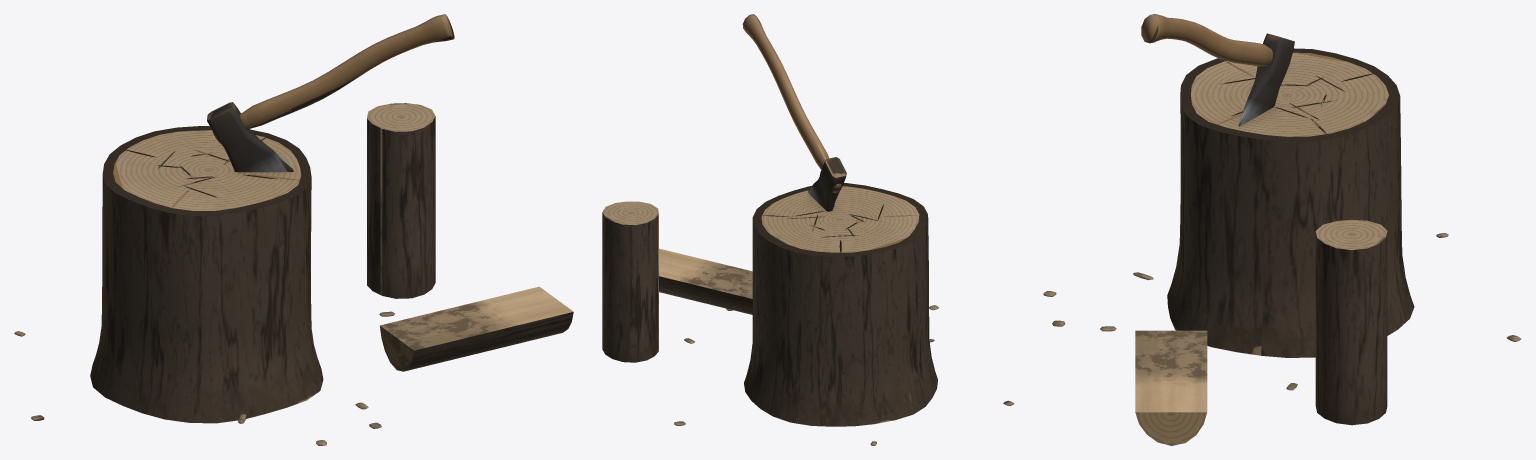
The model's file is chopping.glb.
3 views of the same model, side by side, from view 1: azimuth 30°, elevation 25°; view 2: azimuth 150°, elevation 25°; view 3: azimuth 270°, elevation 25° (orthographic). The views are drawn at different scales.
Parts seen in each view (by area): view 1: Stump, ChopLog, ChopHalf, Axe; view 2: Stump, ChopLog, ChopHalf, Axe; view 3: Stump, ChopLog, ChopHalf, Axe.
Boxes of the visible parts, <box> form: Stump: <box>14,126,394,445</box>; ChopLog: <box>367,103,435,298</box>; ChopHalf: <box>379,286,573,371</box>; Axe: <box>207,14,454,172</box>; Stump: <box>674,183,1014,445</box>; ChopLog: <box>602,201,658,362</box>; ChopHalf: <box>659,248,752,314</box>; Axe: <box>742,14,846,211</box>; Stump: <box>1043,48,1520,390</box>; ChopLog: <box>1315,219,1387,425</box>; ChopHalf: <box>1135,330,1207,445</box>; Axe: <box>1141,14,1294,126</box>.
Bounding box in the file's own units: 0.9135 × 0.6503 × 0.7428.
Materials: 2 (2 with a texture image).
